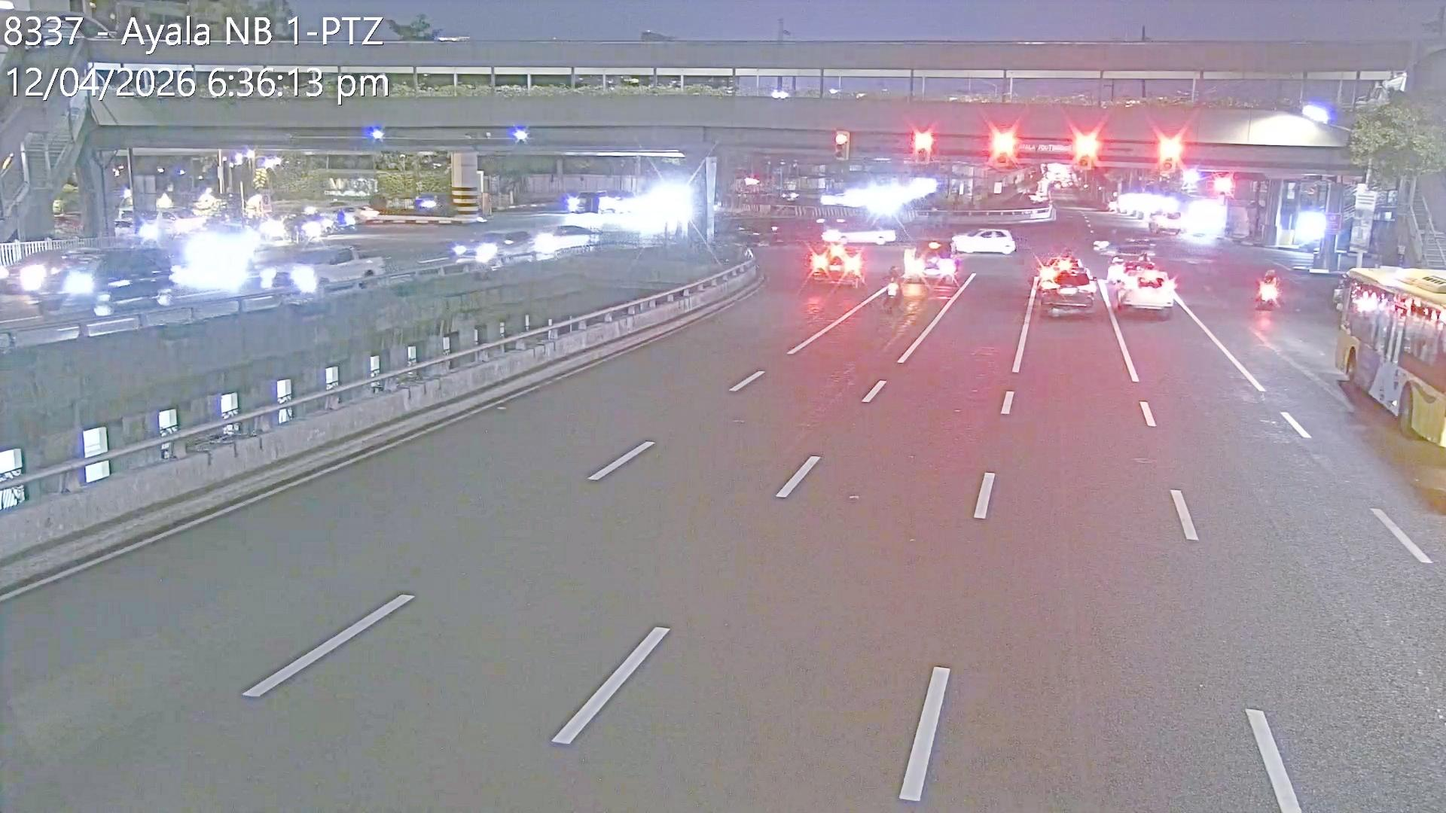Car: (79, 248, 178, 309), (267, 242, 386, 291), (1, 250, 86, 301), (806, 234, 871, 292), (1115, 265, 1177, 317), (1036, 265, 1097, 317), (910, 234, 958, 285), (528, 224, 599, 256), (819, 219, 895, 248), (1030, 254, 1081, 290), (951, 228, 1017, 254), (447, 233, 504, 263), (1109, 249, 1142, 282), (1147, 211, 1185, 236)
Motor: (877, 267, 899, 311), (1253, 274, 1277, 309)
Not Accident: (807, 212, 883, 298), (902, 231, 1015, 287), (1033, 253, 1096, 319)
